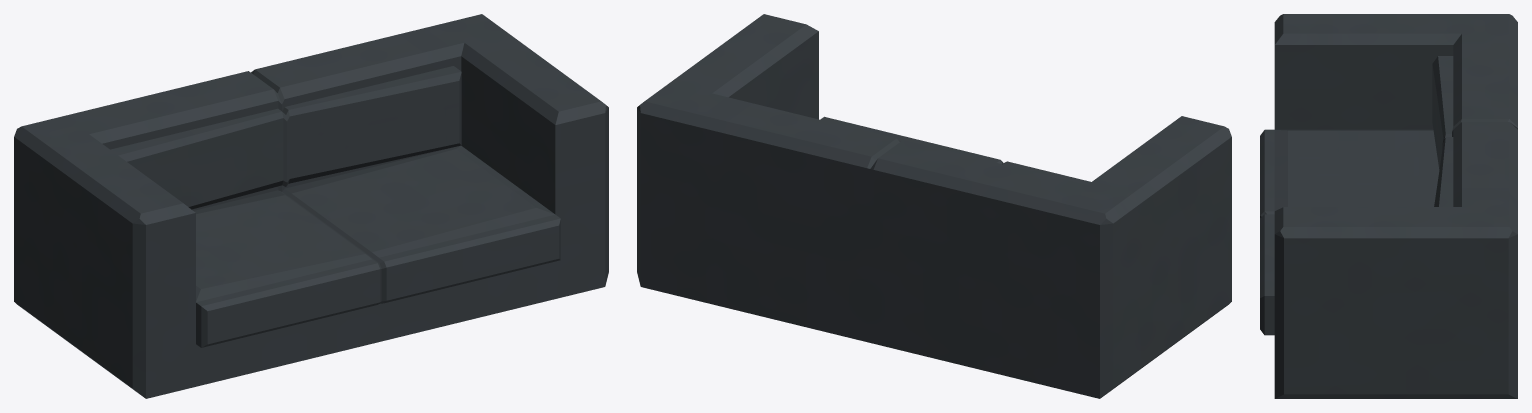
Rendered from Sofa_01_01.fbx.
3 views of the same model, side by side, from view 1: azimuth 30°, elevation 25°; view 2: azimuth 150°, elevation 25°; view 3: azimuth 270°, elevation 25° (orthographic). The views are drawn at different scales.
Visible parts, largest first — view 1: Sofa_01_01; view 2: Sofa_01_01; view 3: Sofa_01_01.
Boxes of the visible parts, x1,y1,x2,y2 form: Sofa_01_01: (14,14,608,398); Sofa_01_01: (637,14,1231,398); Sofa_01_01: (1260,14,1517,398).
Bounding box in the file's own units: 2.5 × 0.913 × 1.24.
